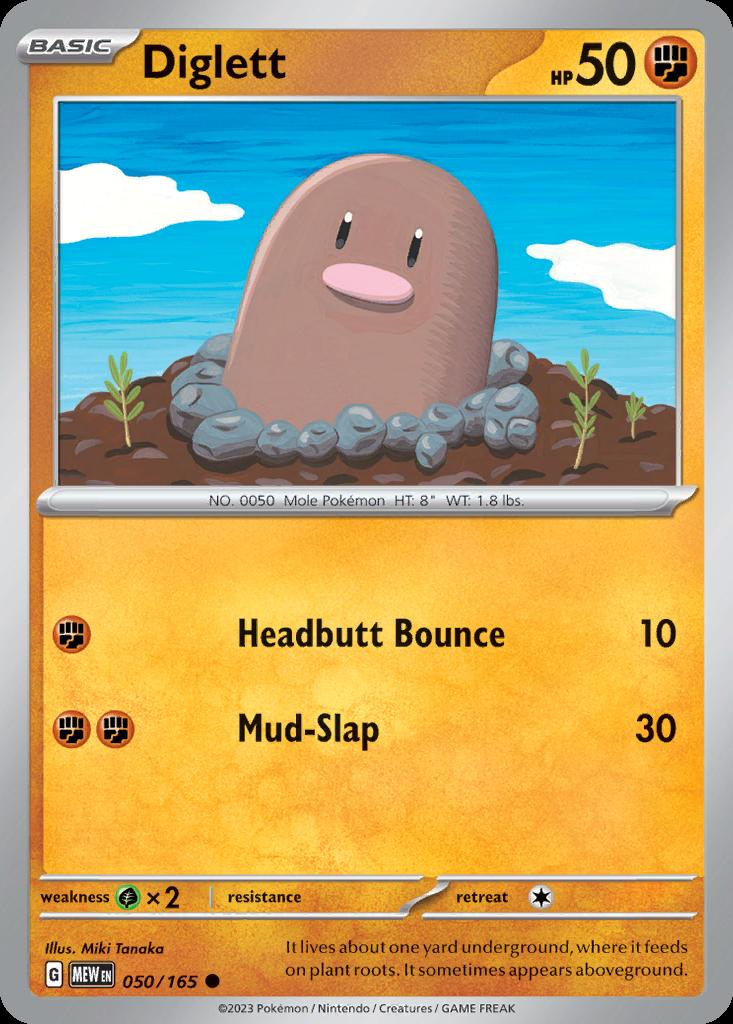card: (3, 0, 726, 1024)
hp: (527, 29, 699, 94)
name: (124, 29, 319, 89)
set num: (120, 963, 233, 993)
set symbol: (47, 959, 114, 997)
